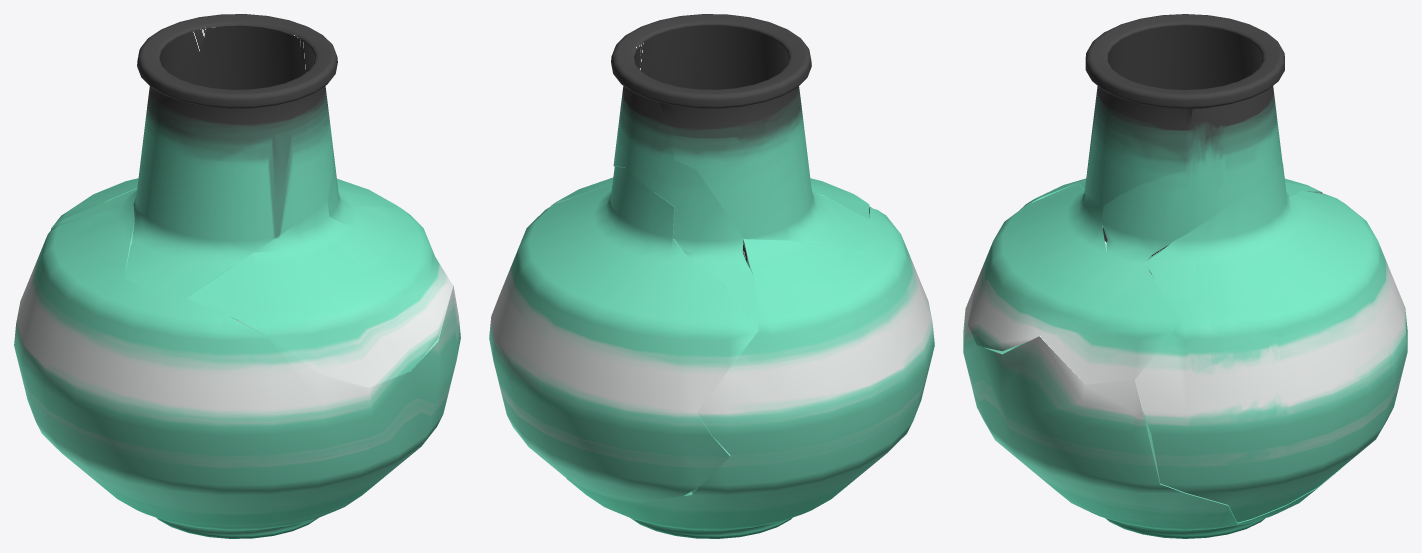
File: ShatteredPot1.fbx
The picture shows the model from 3 angles, left to right: view 1: azimuth 30°, elevation 25°; view 2: azimuth 150°, elevation 25°; view 3: azimuth 270°, elevation 25°; orthographic projection.
Parts seen in each view (by area): view 1: polySurface34, polySurface33, polySurface31, polySurface32, polySurface30; view 2: polySurface30, polySurface34, polySurface33, polySurface32, polySurface31; view 3: polySurface30, polySurface34, polySurface31, polySurface33, polySurface32.
Boxes of the visible parts, left/top/right/bottom form: polySurface34: left=14, top=191, right=460, bottom=538; polySurface33: left=124, top=14, right=337, bottom=298; polySurface31: left=186, top=200, right=452, bottom=387; polySurface32: left=55, top=25, right=356, bottom=226; polySurface30: left=51, top=178, right=398, bottom=229; polySurface30: left=489, top=166, right=758, bottom=502; polySurface34: left=566, top=207, right=934, bottom=538; polySurface33: left=611, top=14, right=874, bottom=250; polySurface32: left=613, top=45, right=759, bottom=327; polySurface31: left=551, top=177, right=869, bottom=219; polySurface30: left=1135, top=162, right=1407, bottom=522; polySurface34: left=963, top=178, right=1340, bottom=538; polySurface31: left=968, top=183, right=1177, bottom=384; polySurface33: left=1078, top=14, right=1284, bottom=205; polySurface32: left=1101, top=86, right=1322, bottom=262.
Bounding box in the file's own units: 0.5548 × 0.6144 × 0.5529.
